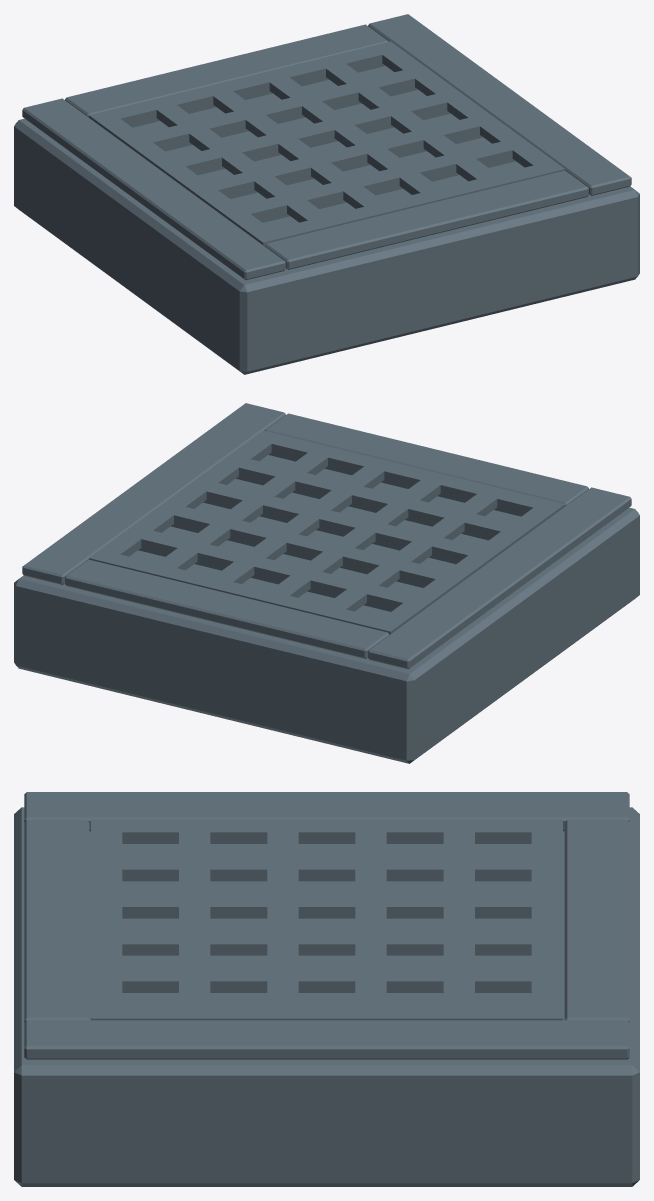
File: FloorGrate.fbx
The picture shows the model from 3 angles, top to bottom: view 1: azimuth 30°, elevation 25°; view 2: azimuth 150°, elevation 25°; view 3: azimuth 270°, elevation 25°; orthographic projection. The views are drawn at different scales.
Parts seen in each view (by area): view 1: Deck; view 2: Deck; view 3: Deck.
Boxes of the visible parts, x1,y1,x2,y2 form: Deck: [14, 14, 639, 374]; Deck: [14, 403, 639, 763]; Deck: [14, 792, 639, 1186].
Size of the model in its own units: 0.98 by 0.24 by 0.98.
